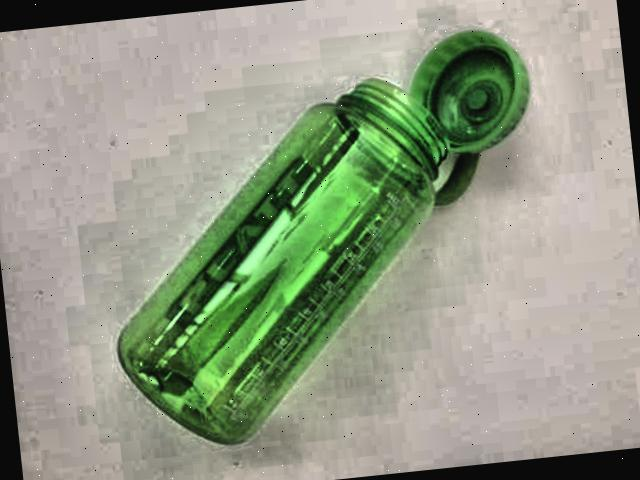Plastic: (72, 5, 594, 480)
